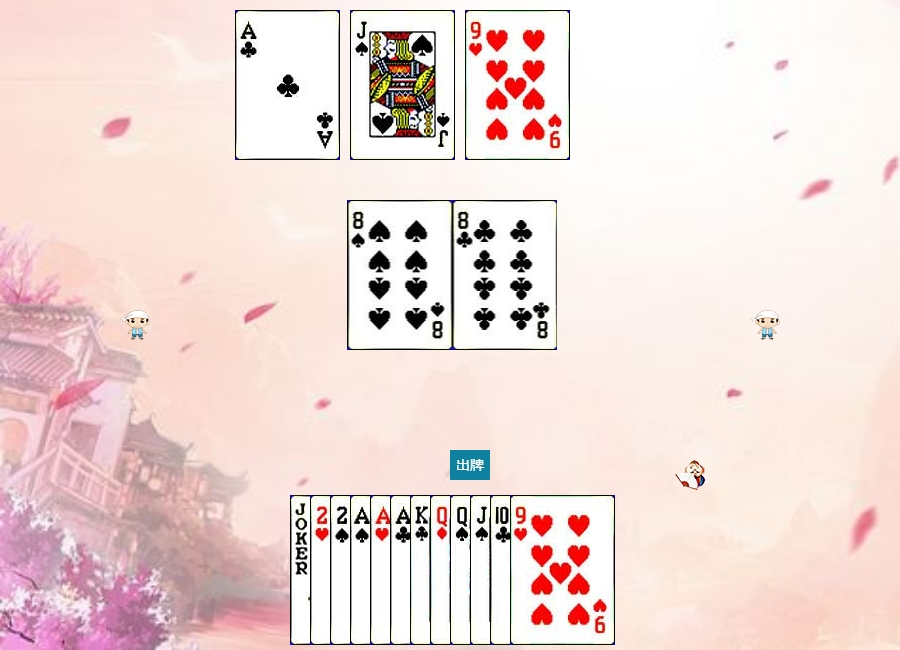10~2: (490, 495, 595, 645)
11~4: (350, 10, 455, 160), (470, 495, 575, 645)
12~1: (430, 495, 535, 645)
12~4: (450, 495, 555, 645)
13~2: (410, 495, 515, 645)
14~2: (235, 10, 340, 160), (390, 495, 495, 645)
14~3: (370, 495, 475, 645)
14~4: (350, 495, 455, 645)
15~3: (310, 495, 415, 645)
15~4: (330, 495, 435, 645)
17~3: (290, 495, 395, 645)
8~2: (453, 200, 558, 350)
8~4: (348, 200, 453, 350)
9~3: (465, 10, 570, 160), (510, 495, 615, 645)
